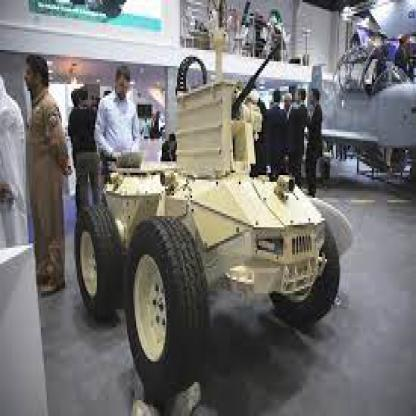UGV: (74, 78, 340, 392)
